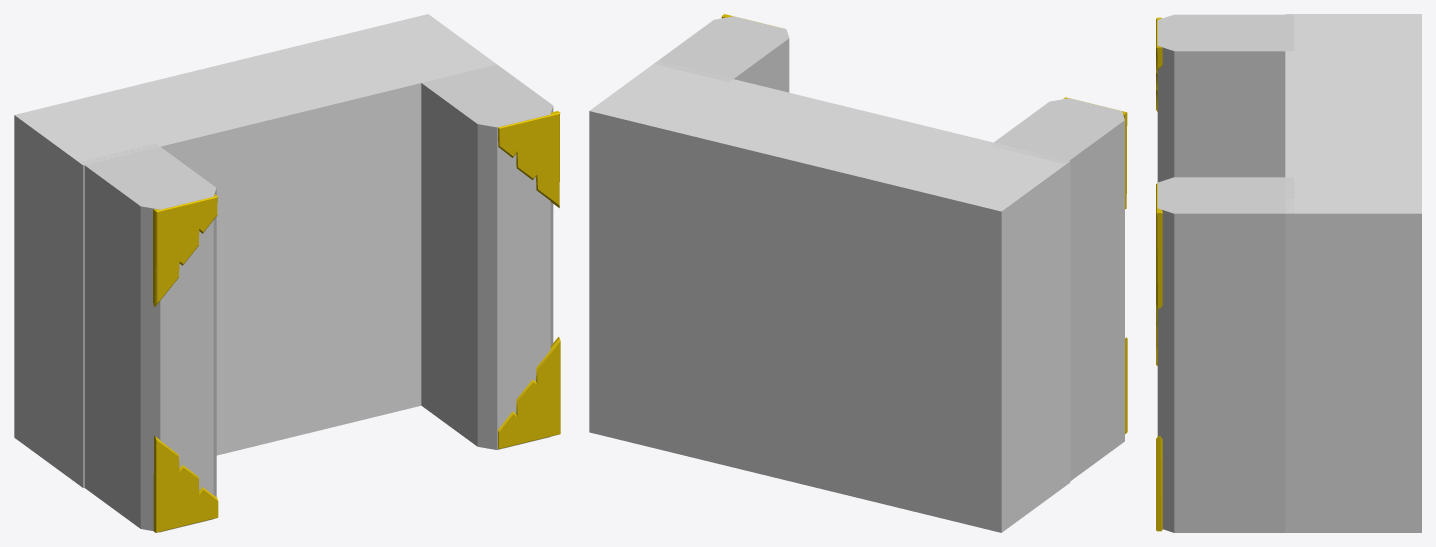
File: Pillar001.fbx
3 views of the same model, side by side, from view 1: azimuth 30°, elevation 25°; view 2: azimuth 150°, elevation 25°; view 3: azimuth 270°, elevation 25° (orthographic).
Visible parts, largest first — view 1: backwall, rightwall, leftwall, pCube1, pCube5; view 2: backwall, leftwall, rightwall; view 3: backwall, rightwall, leftwall, pCube5, pCube1.
Part boxes in pixels (bbox=[...]): backwall: bbox=[14, 14, 496, 487]; rightwall: bbox=[421, 64, 553, 449]; leftwall: bbox=[81, 143, 216, 532]; pCube1: bbox=[153, 337, 560, 532]; pCube5: bbox=[153, 111, 560, 306]; backwall: bbox=[589, 61, 1070, 532]; leftwall: bbox=[990, 98, 1124, 480]; rightwall: bbox=[654, 16, 789, 92]; backwall: bbox=[1285, 14, 1421, 532]; rightwall: bbox=[1157, 177, 1294, 532]; leftwall: bbox=[1157, 14, 1294, 182]; pCube5: bbox=[1156, 17, 1162, 308]; pCube1: bbox=[1156, 304, 1162, 531].
Size of the model in its own units: 30.87 by 23 by 17.35.
